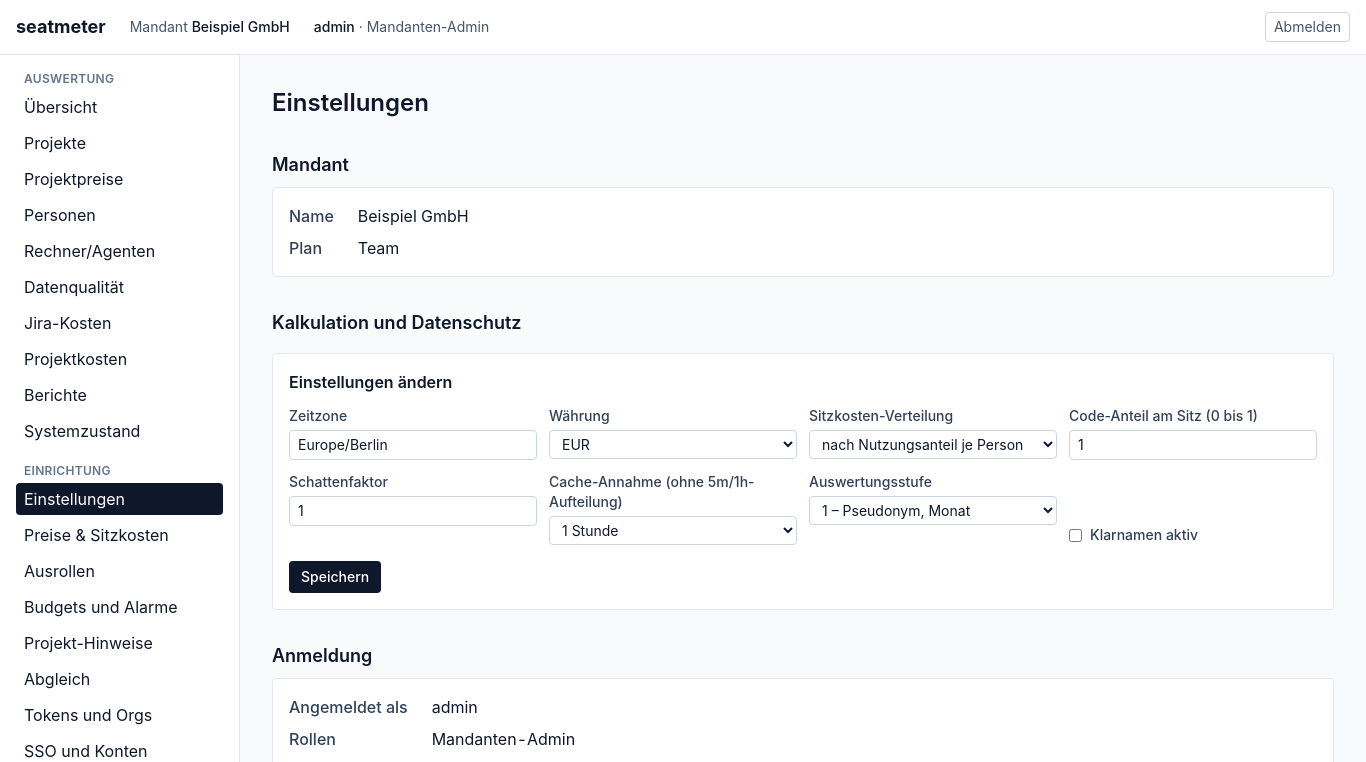
Test: Einstellungen: Kalkulation und Datenschutz › sendet nur geänderte Felder per PUT mit CSRF-Header
Select "als Pool nach Projektanteil" in the dropdown labelled "Sitzkosten-Verteilung": (933, 444) [809,430,1057,459]
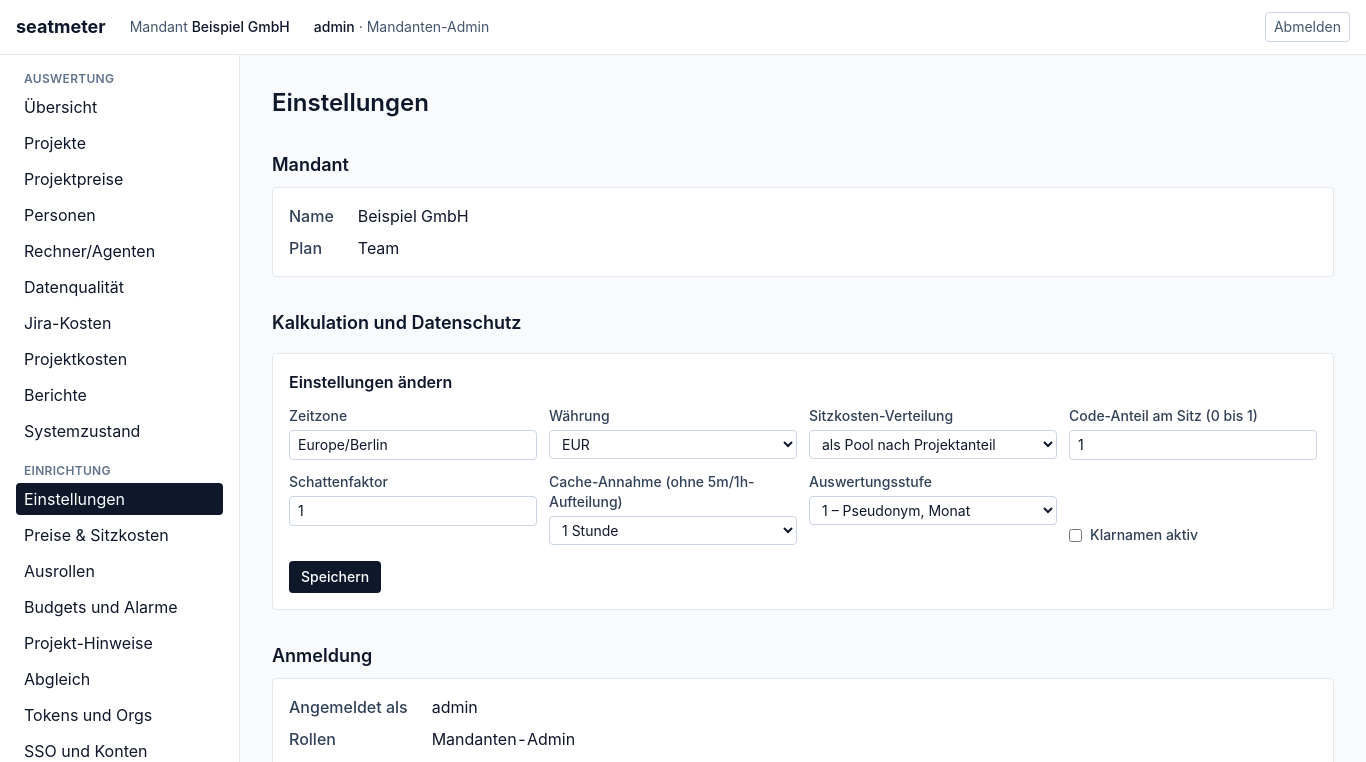
Replace the text in the field labelled "Schattenfaktor" with "1,2": (413, 511) [289,496,537,526]
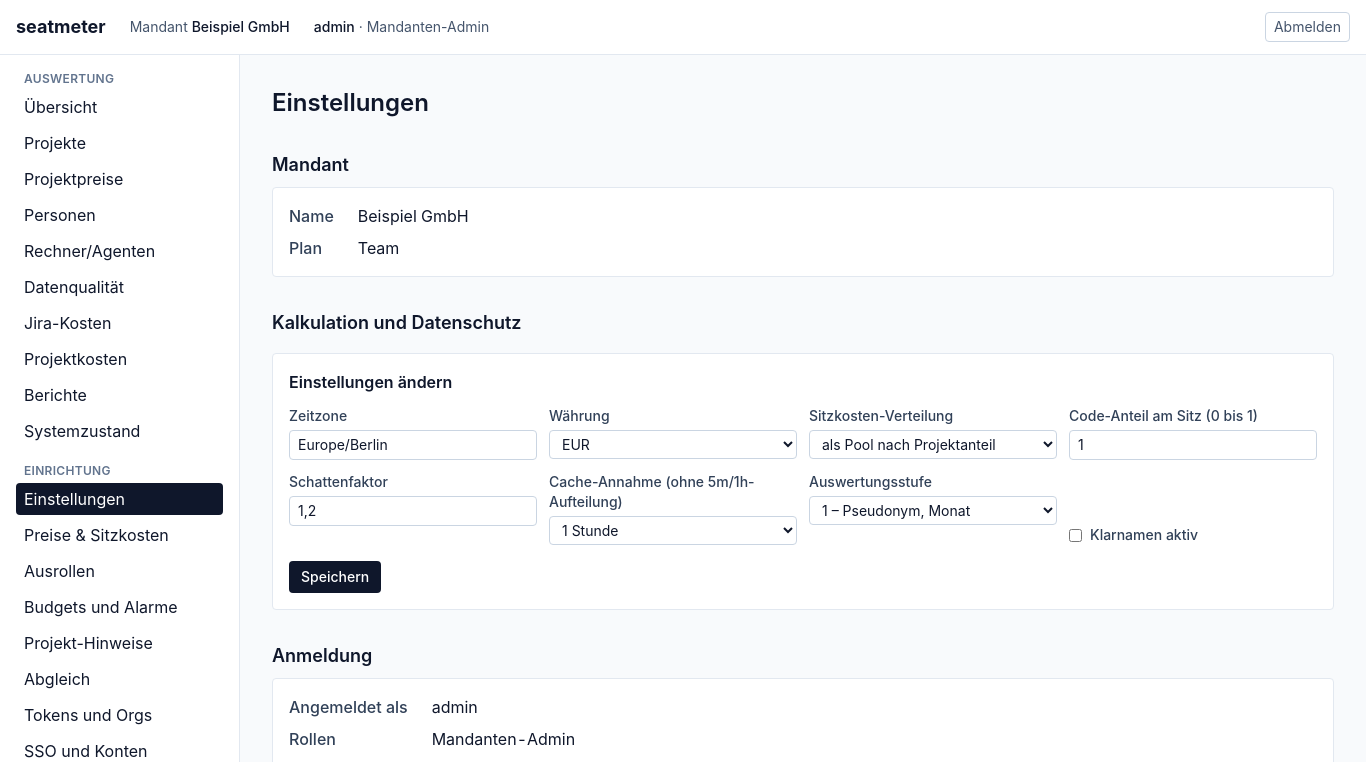
Click the button "Speichern": (335, 577) [289,561,381,593]
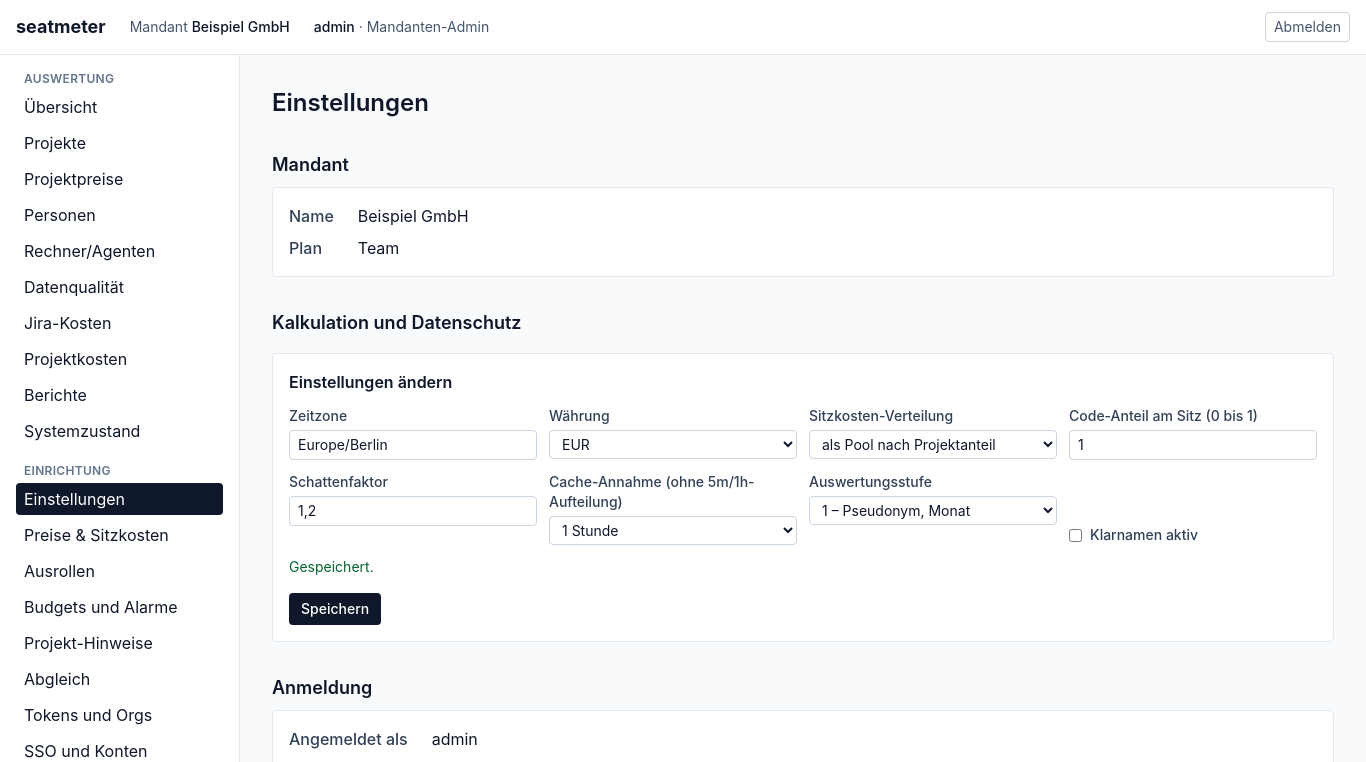
Expected: the text "Gespeichert." is shown, [289,558,374,575]
